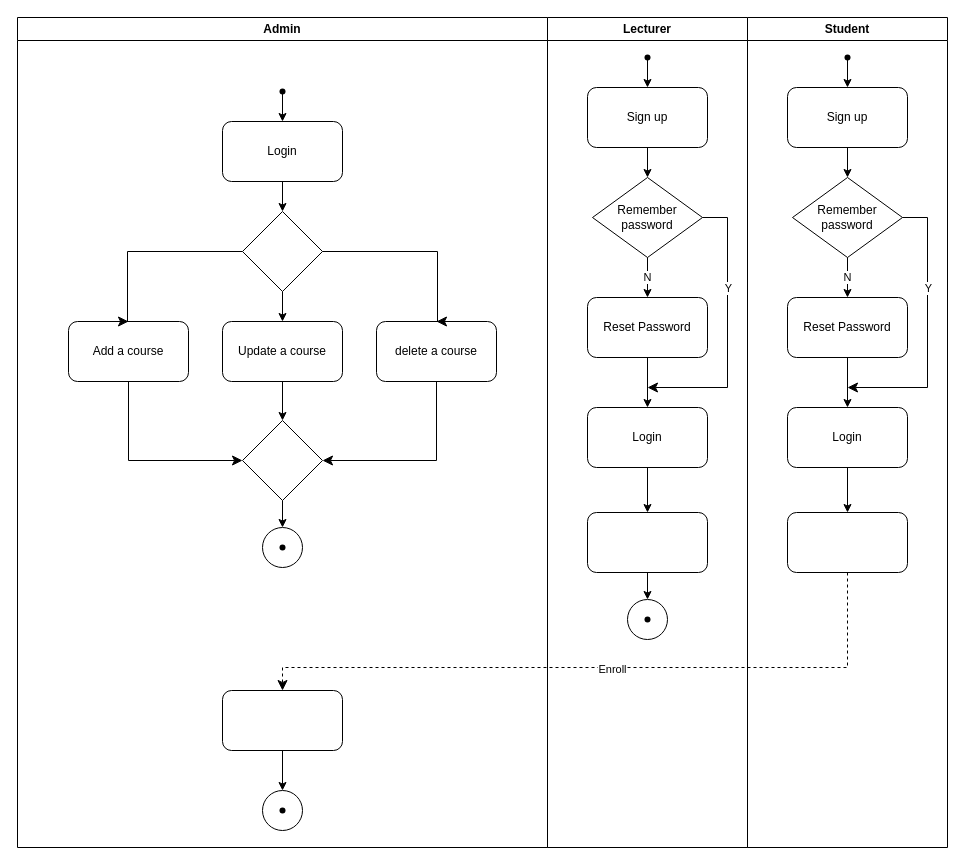
This 965x865 diagram has some shape labels left out. The centre of each missing label's shape, as x and y in pixels:
"Approve a erollment" goes at (282,720).
"choose an action" goes at (282,251).
"Eroll into a course" goes at (847,542).
"View assigned courses" goes at (647,542).
